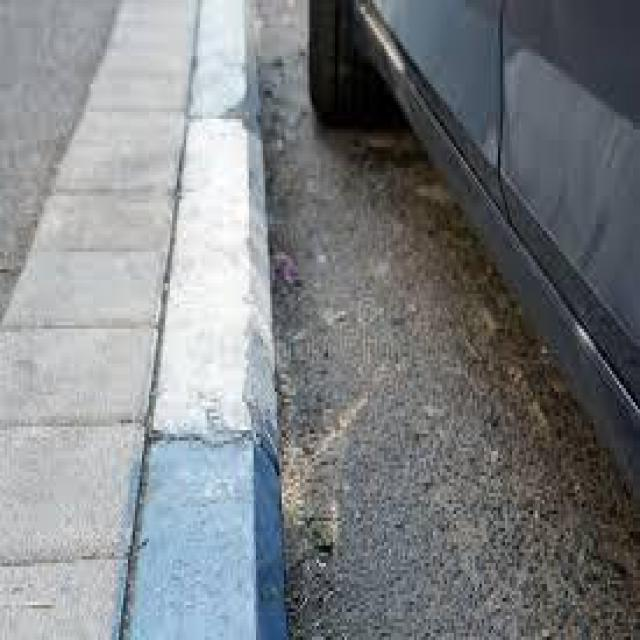bump: (132, 80, 335, 640)
